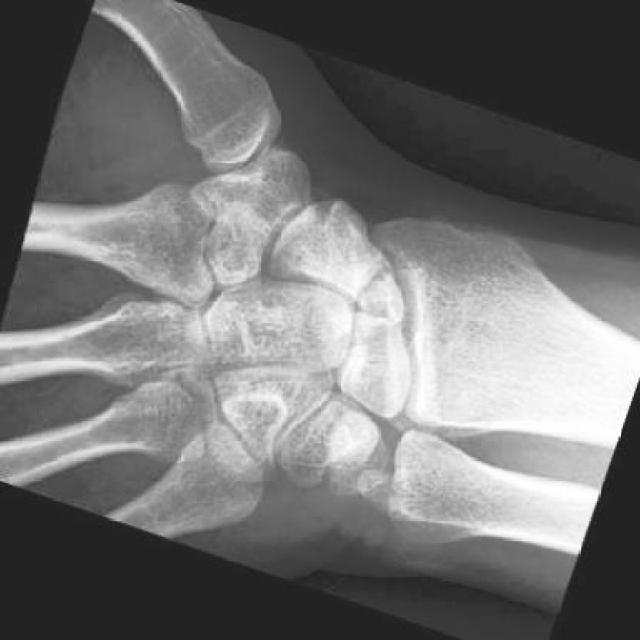bone: (336, 243, 421, 328)
